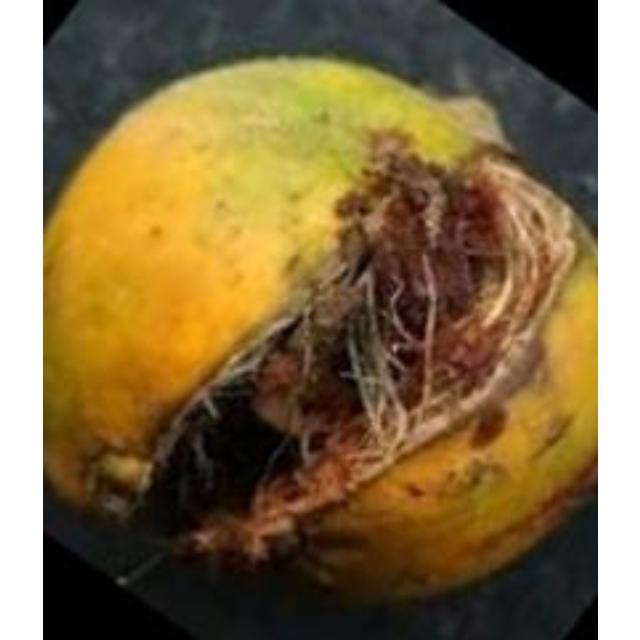damaged: (42, 56, 594, 598)
